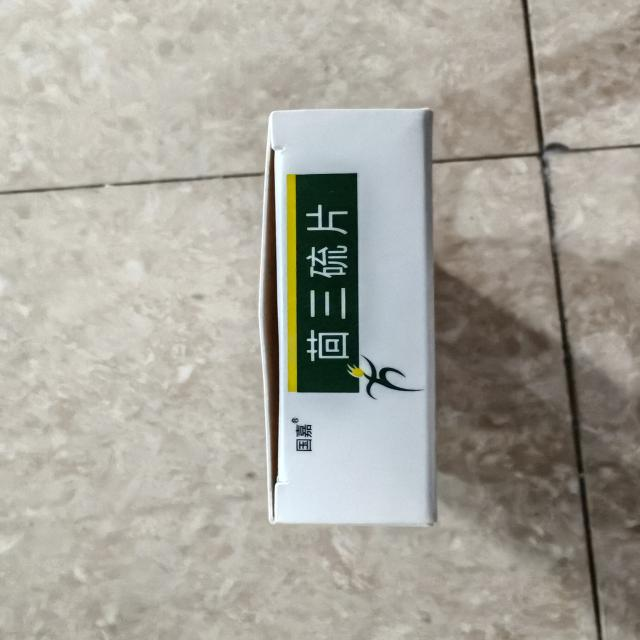box: (252, 98, 452, 540)
